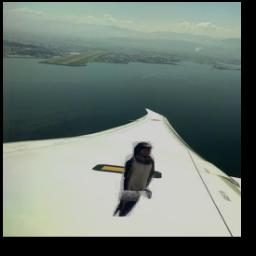Swallow: (114, 141, 155, 217)
